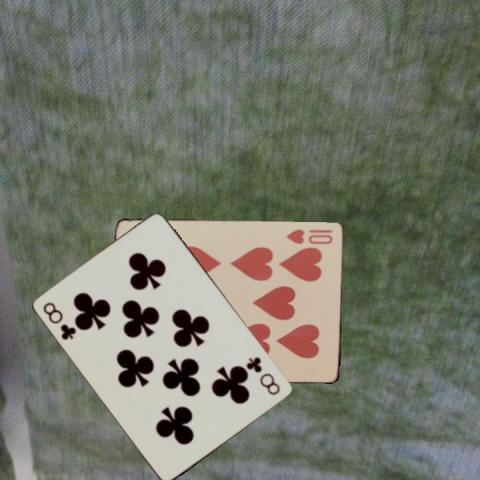10h: (284, 226, 335, 245)
8c: (244, 354, 282, 397), (40, 299, 78, 342)
